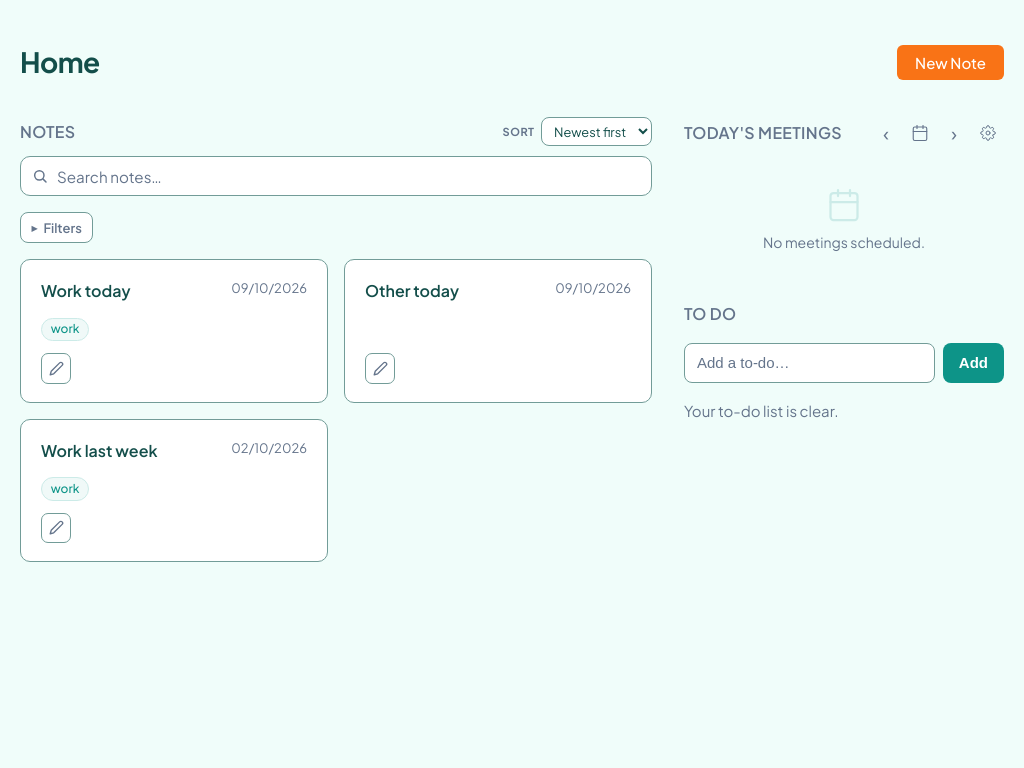
Scenario: CHANGE-6 — collapsible Filters on the home view › filtering composes the tag filter with the date-range control (40-A)
What coordinates should you click on to do the following:
click the button "▸ Filters"
I would click on:
 (57, 228)
Its box is left=20, top=212, right=93, bottom=243.
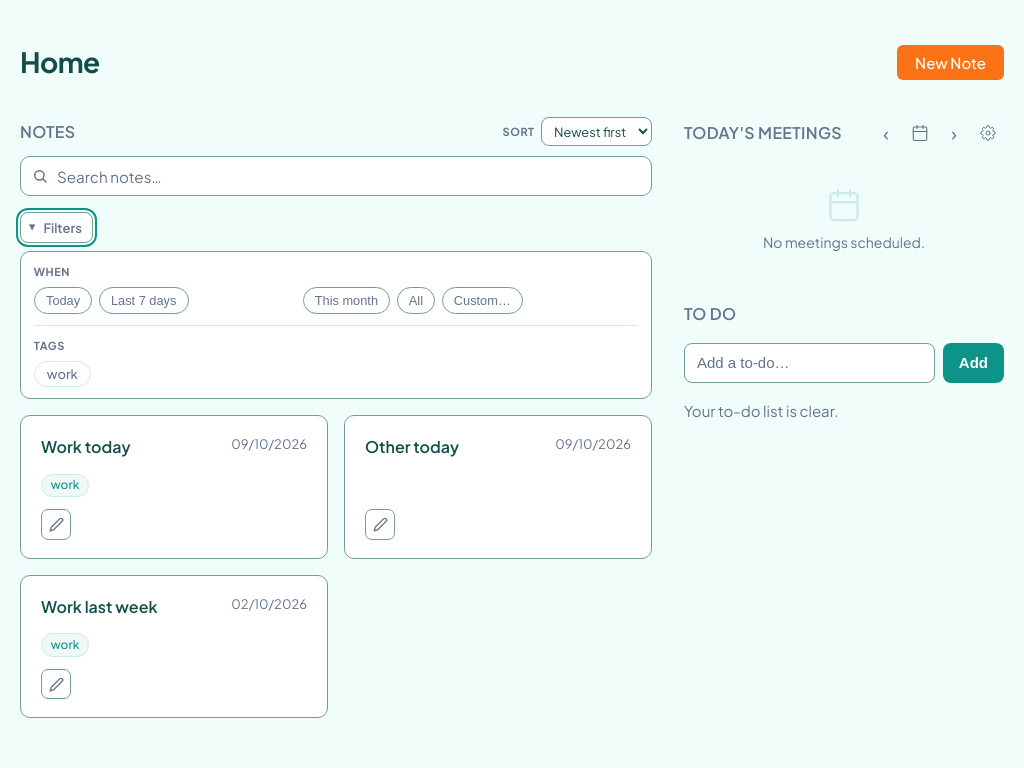
What coordinates should you click on to do the following:
click the button with test id "tag-filter-pill-work"
I would click on:
 (62, 374)
Its box is left=34, top=361, right=91, bottom=387.
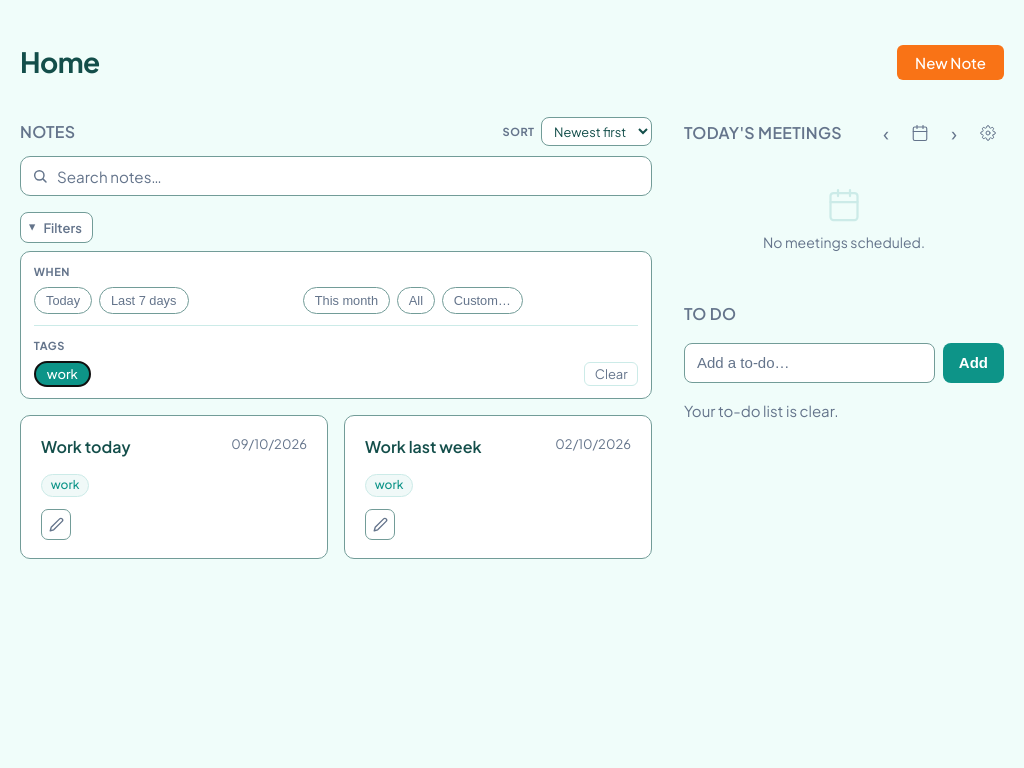
Check: the heading "Work today" is shown, box left=41, top=436, right=130, bottom=457
Check: the heading "Other today" is gone
What coordinates should you click on to do the following:
click the button with test id "range-preset-today"
I would click on:
 (63, 300)
Its box is left=34, top=287, right=92, bottom=314.
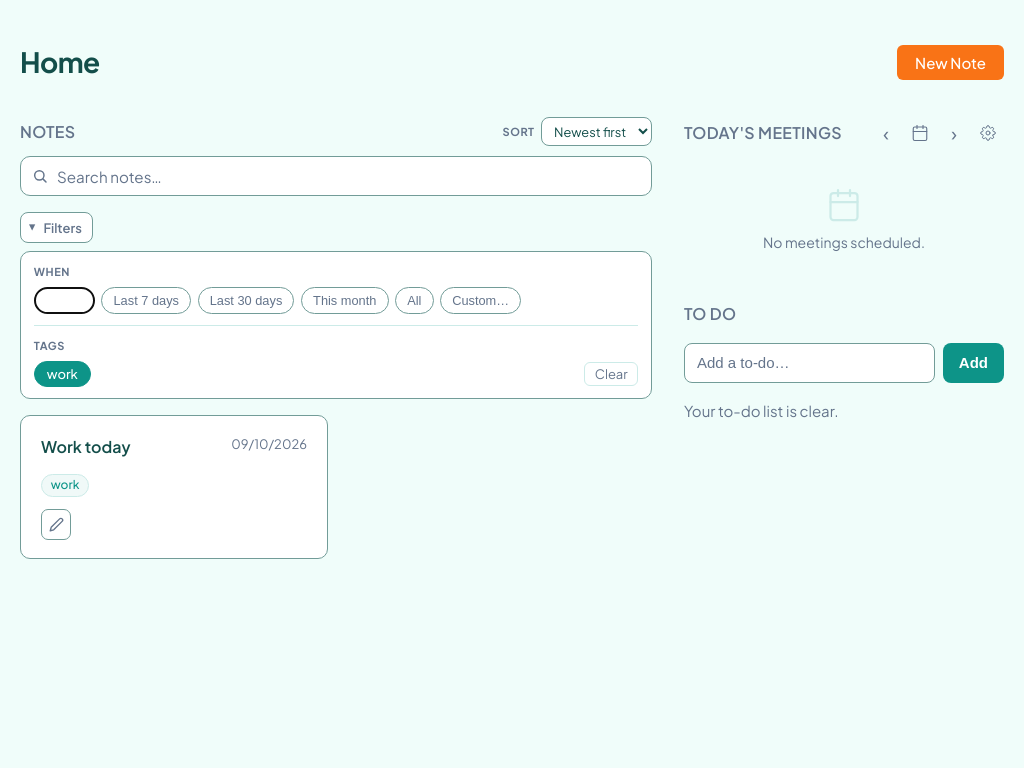
Check: the heading "Work today" is shown, box left=41, top=436, right=130, bottom=457
Check: the heading "Work last week" is gone
